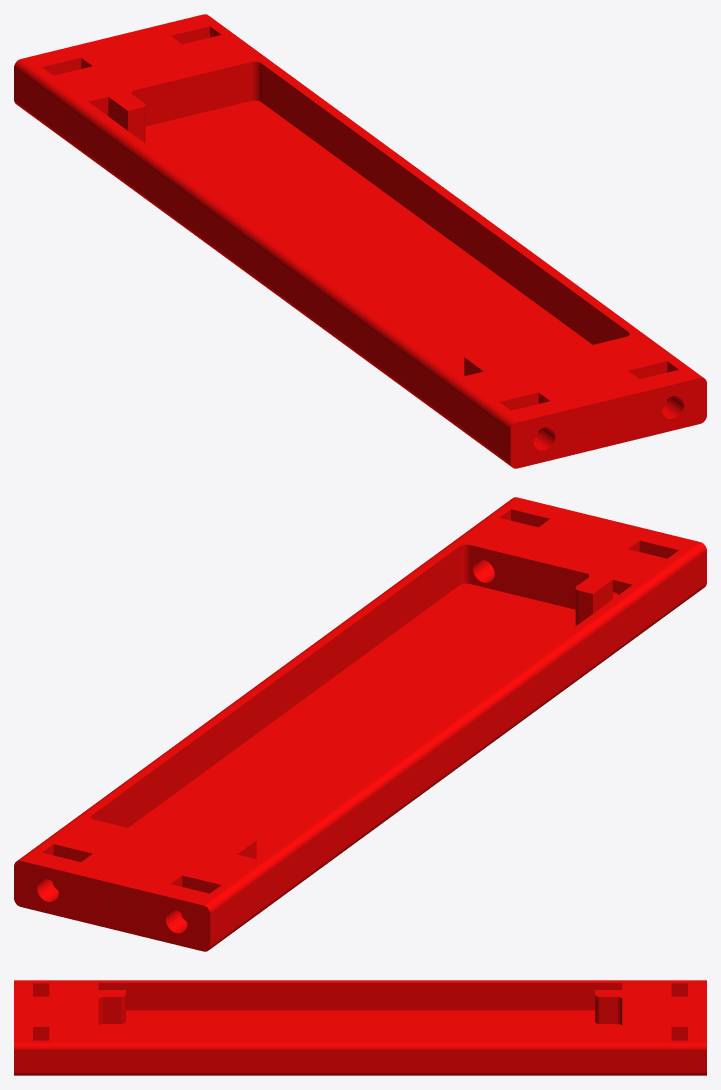
File: V1.02_Chassis_Left_Side.dae
3 renders of one model, top to bottom at view 1: azimuth 30°, elevation 25°; view 2: azimuth 150°, elevation 25°; view 3: azimuth 270°, elevation 25°, orthographic. The views are drawn at different scales.
Visible parts, largest first — view 1: V1.02_Chassis_Left_Side; view 2: V1.02_Chassis_Left_Side; view 3: V1.02_Chassis_Left_Side.
Part boxes in pixels (<box>): V1.02_Chassis_Left_Side: <box>14,14,706,468</box>; V1.02_Chassis_Left_Side: <box>14,497,706,951</box>; V1.02_Chassis_Left_Side: <box>14,980,706,1075</box>.
Bounding box in the file's own units: 29 × 127 × 6.5.
